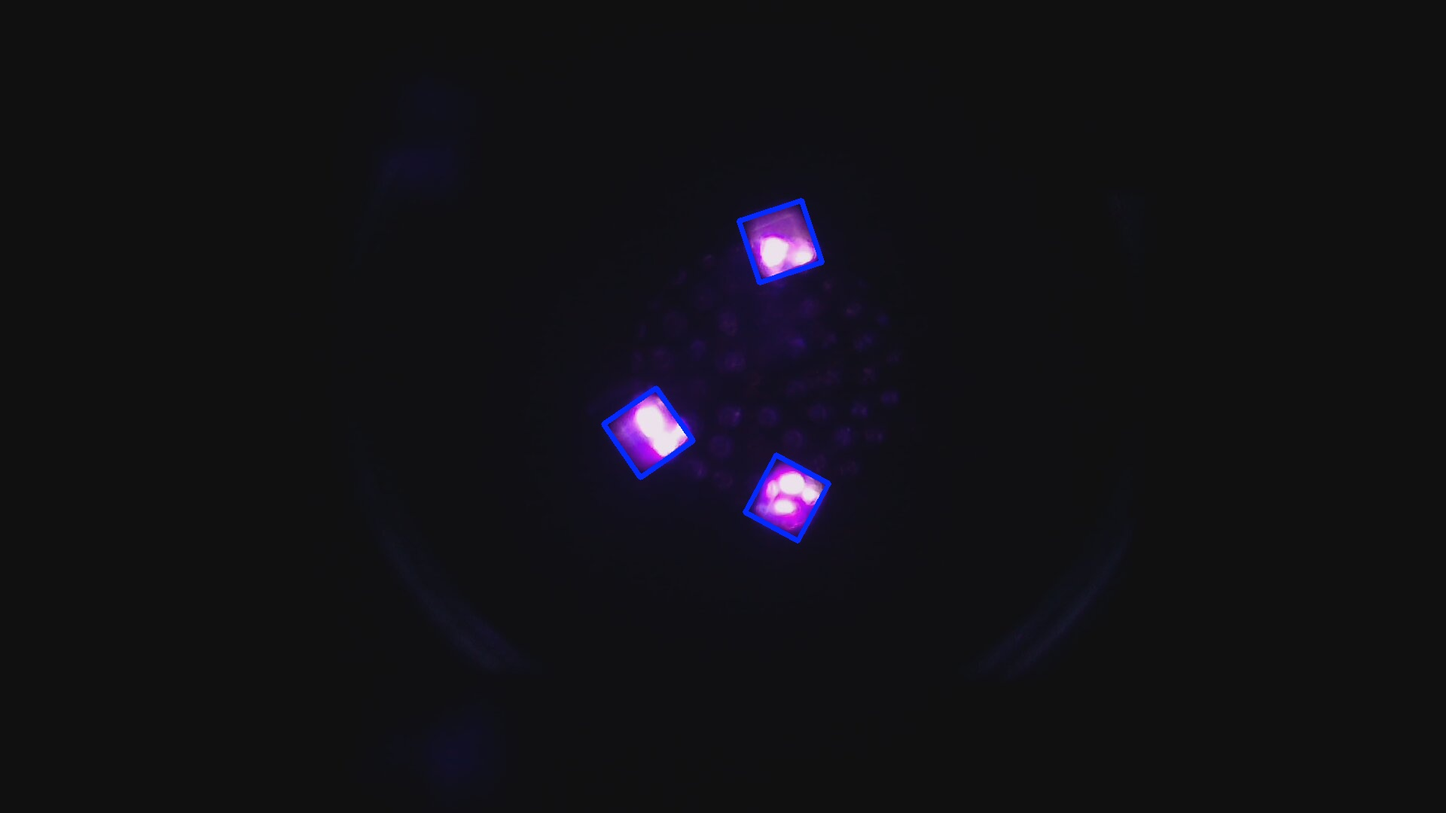plastic: (603, 387, 695, 480), (745, 453, 832, 542), (739, 201, 822, 284)
